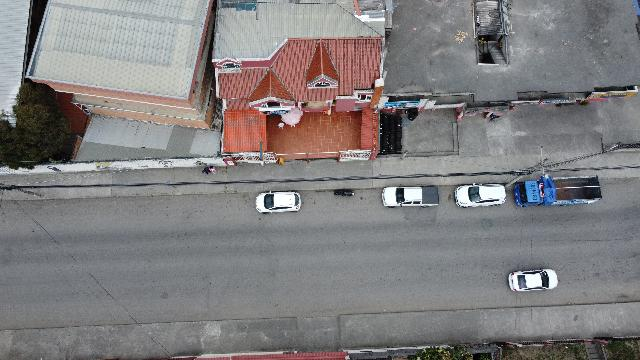Vehiculo: (454, 183, 506, 207), (382, 186, 438, 208), (508, 268, 558, 292), (256, 191, 300, 213)
